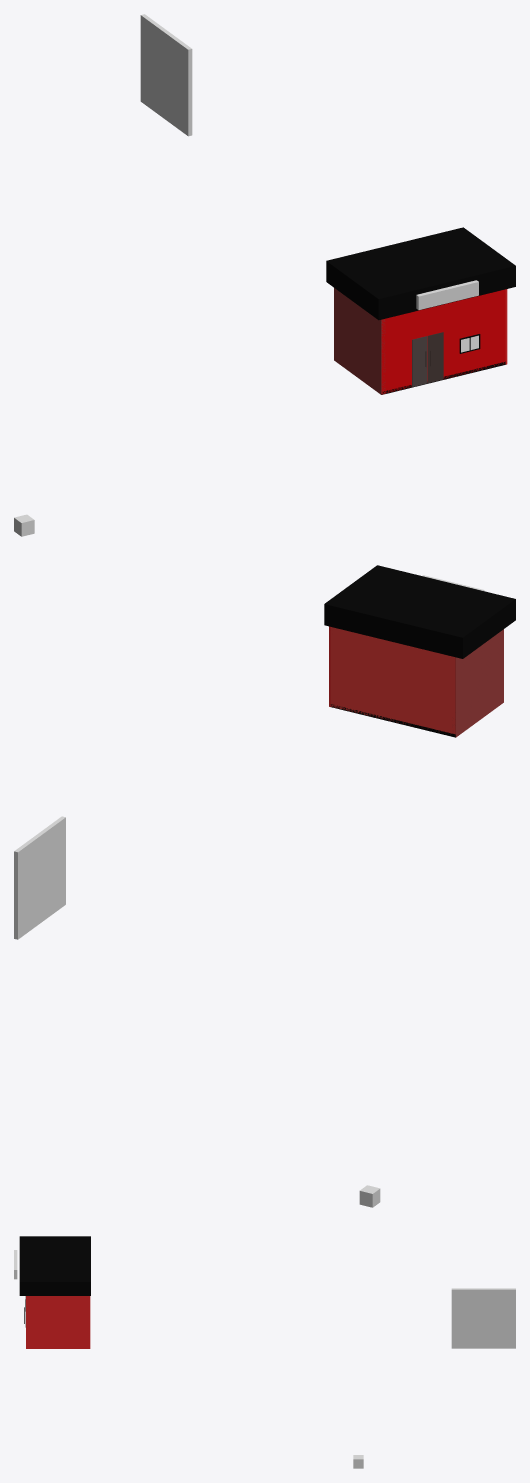
The model's file is casaBlender.fbx.
3 views of the same model, one above another, from view 1: azimuth 30°, elevation 25°; view 2: azimuth 150°, elevation 25°; view 3: azimuth 270°, elevation 25° (orthographic). The views are drawn at different scales.
Visible parts, largest first — view 1: Cube.006, Cube.003, Cube.005, Cube.004, Cube.009, Cube.008, Cube.007; view 2: Cube.006, Cube.002, Cube.005, Cube.004; view 3: Cube.006, Cube.005, Cube.011.
Boxes of the visible parts, box(x1,y1,x2,y2) form: Cube.006: box(326, 227, 515, 320); Cube.003: box(381, 289, 505, 394); Cube.005: box(140, 14, 192, 136); Cube.004: box(334, 288, 385, 394); Cube.009: box(416, 280, 478, 309); Cube.008: box(425, 332, 443, 383); Cube.007: box(412, 336, 427, 386); Cube.006: box(324, 565, 515, 658); Cube.002: box(330, 627, 455, 734); Cube.005: box(14, 816, 65, 939); Cube.004: box(455, 629, 503, 737); Cube.006: box(19, 1236, 90, 1295); Cube.005: box(451, 1288, 515, 1348); Cube.011: box(26, 1296, 90, 1348).
Size of the model in its own units: 3805 by 5703 by 9795.
